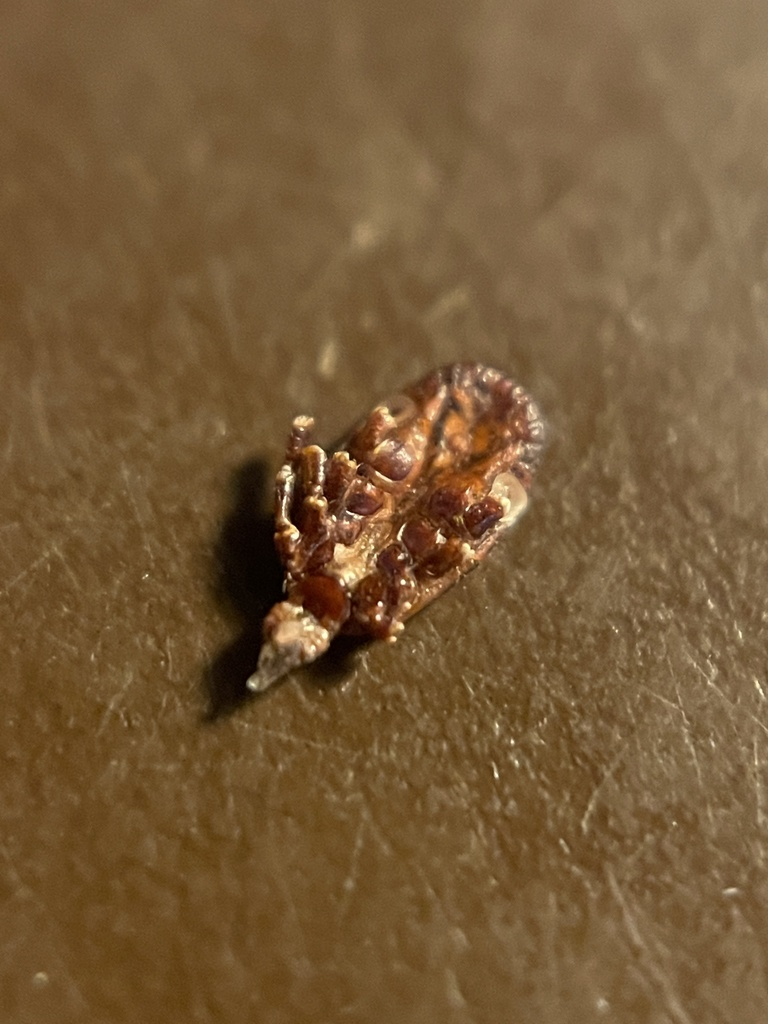garrapata: (213, 356, 554, 720)
